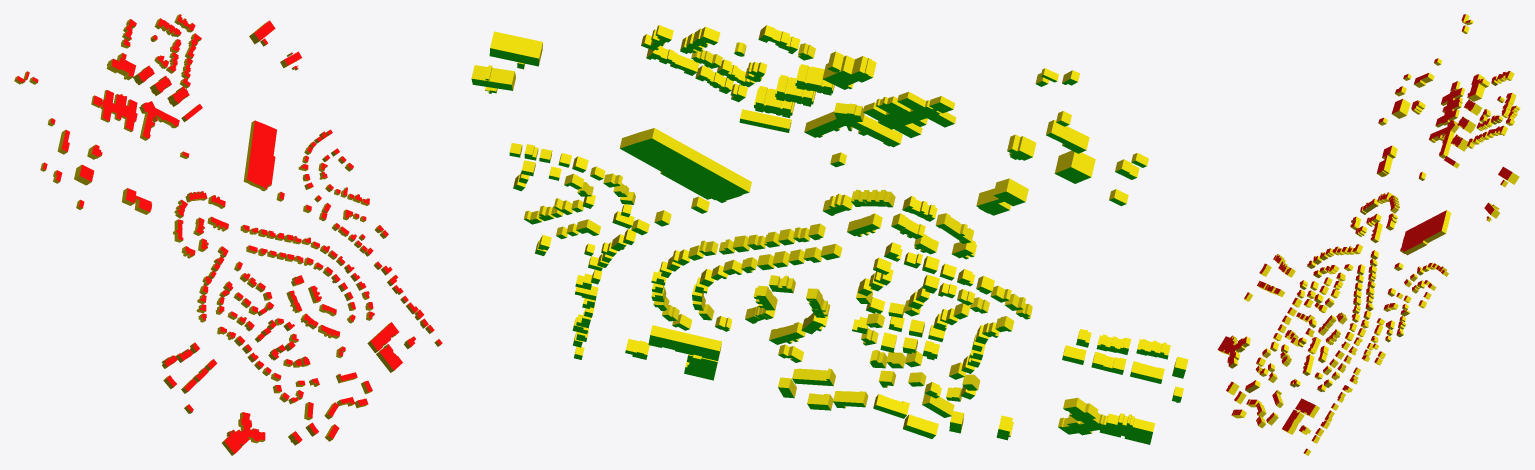
The picture shows the model from 3 angles, left to right: view 1: azimuth 30°, elevation 25°; view 2: azimuth 150°, elevation 25°; view 3: azimuth 270°, elevation 25°; orthographic projection. The views are drawn at different scales.
Parts seen in each view (by area): view 1: mesh; view 2: mesh; view 3: mesh.
Part boxes in pixels (box(x1,y1,x2,y2)): mesh: box(14, 14, 442, 455); mesh: box(471, 25, 1188, 444); mesh: box(1217, 14, 1520, 455).
Size of the model in its own units: 866 by 788 by 674.
